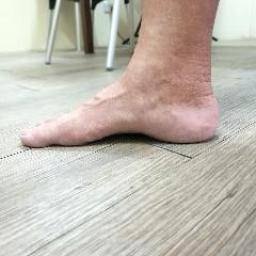Medial View -Right Foot-: (3, 34, 242, 161)
